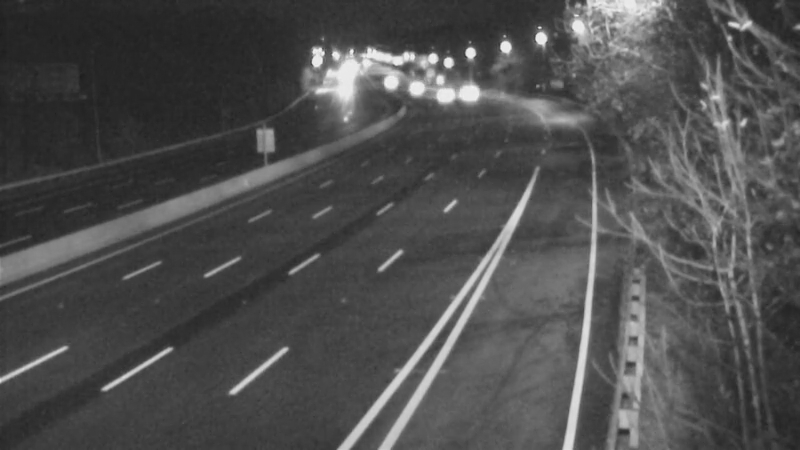vehicle: (359, 55, 409, 105), (385, 60, 435, 110), (415, 69, 465, 119), (439, 66, 489, 116)
